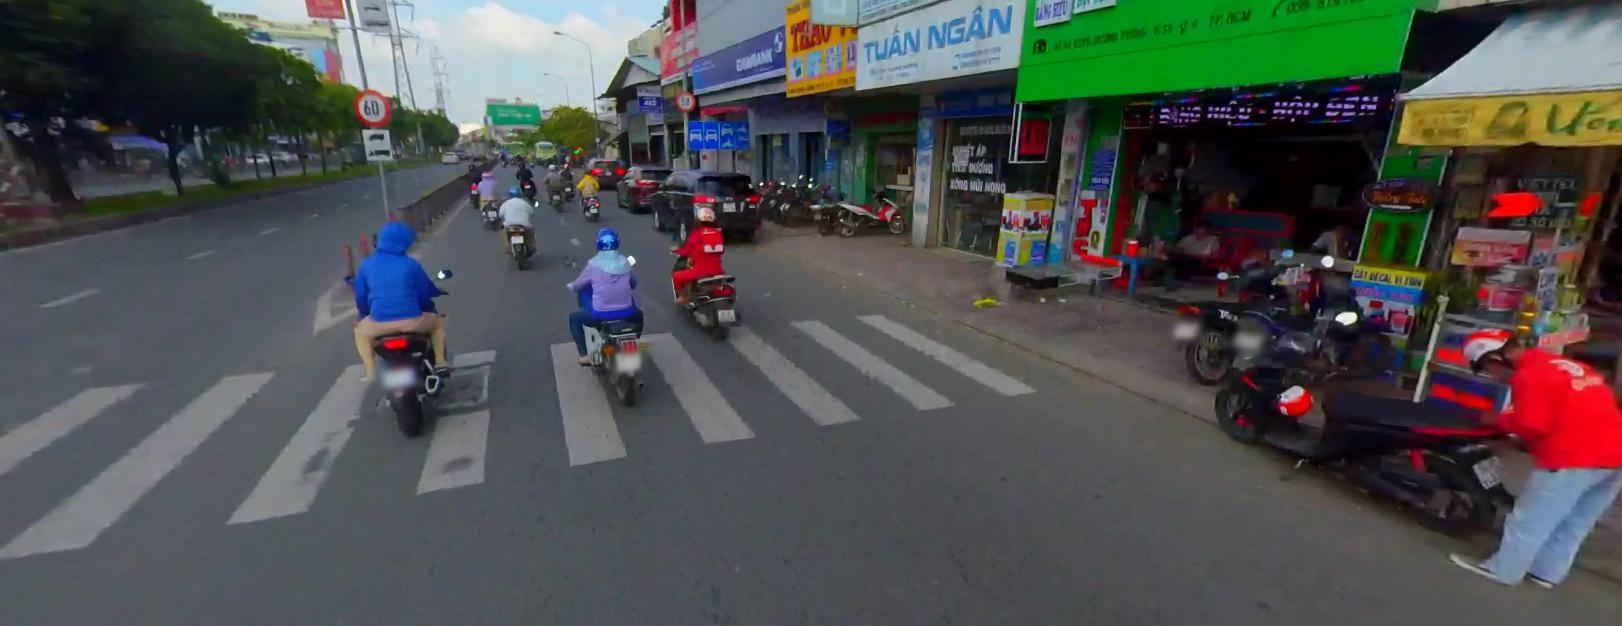Gioi han toc do: (353, 87, 390, 126), (675, 90, 696, 111)
